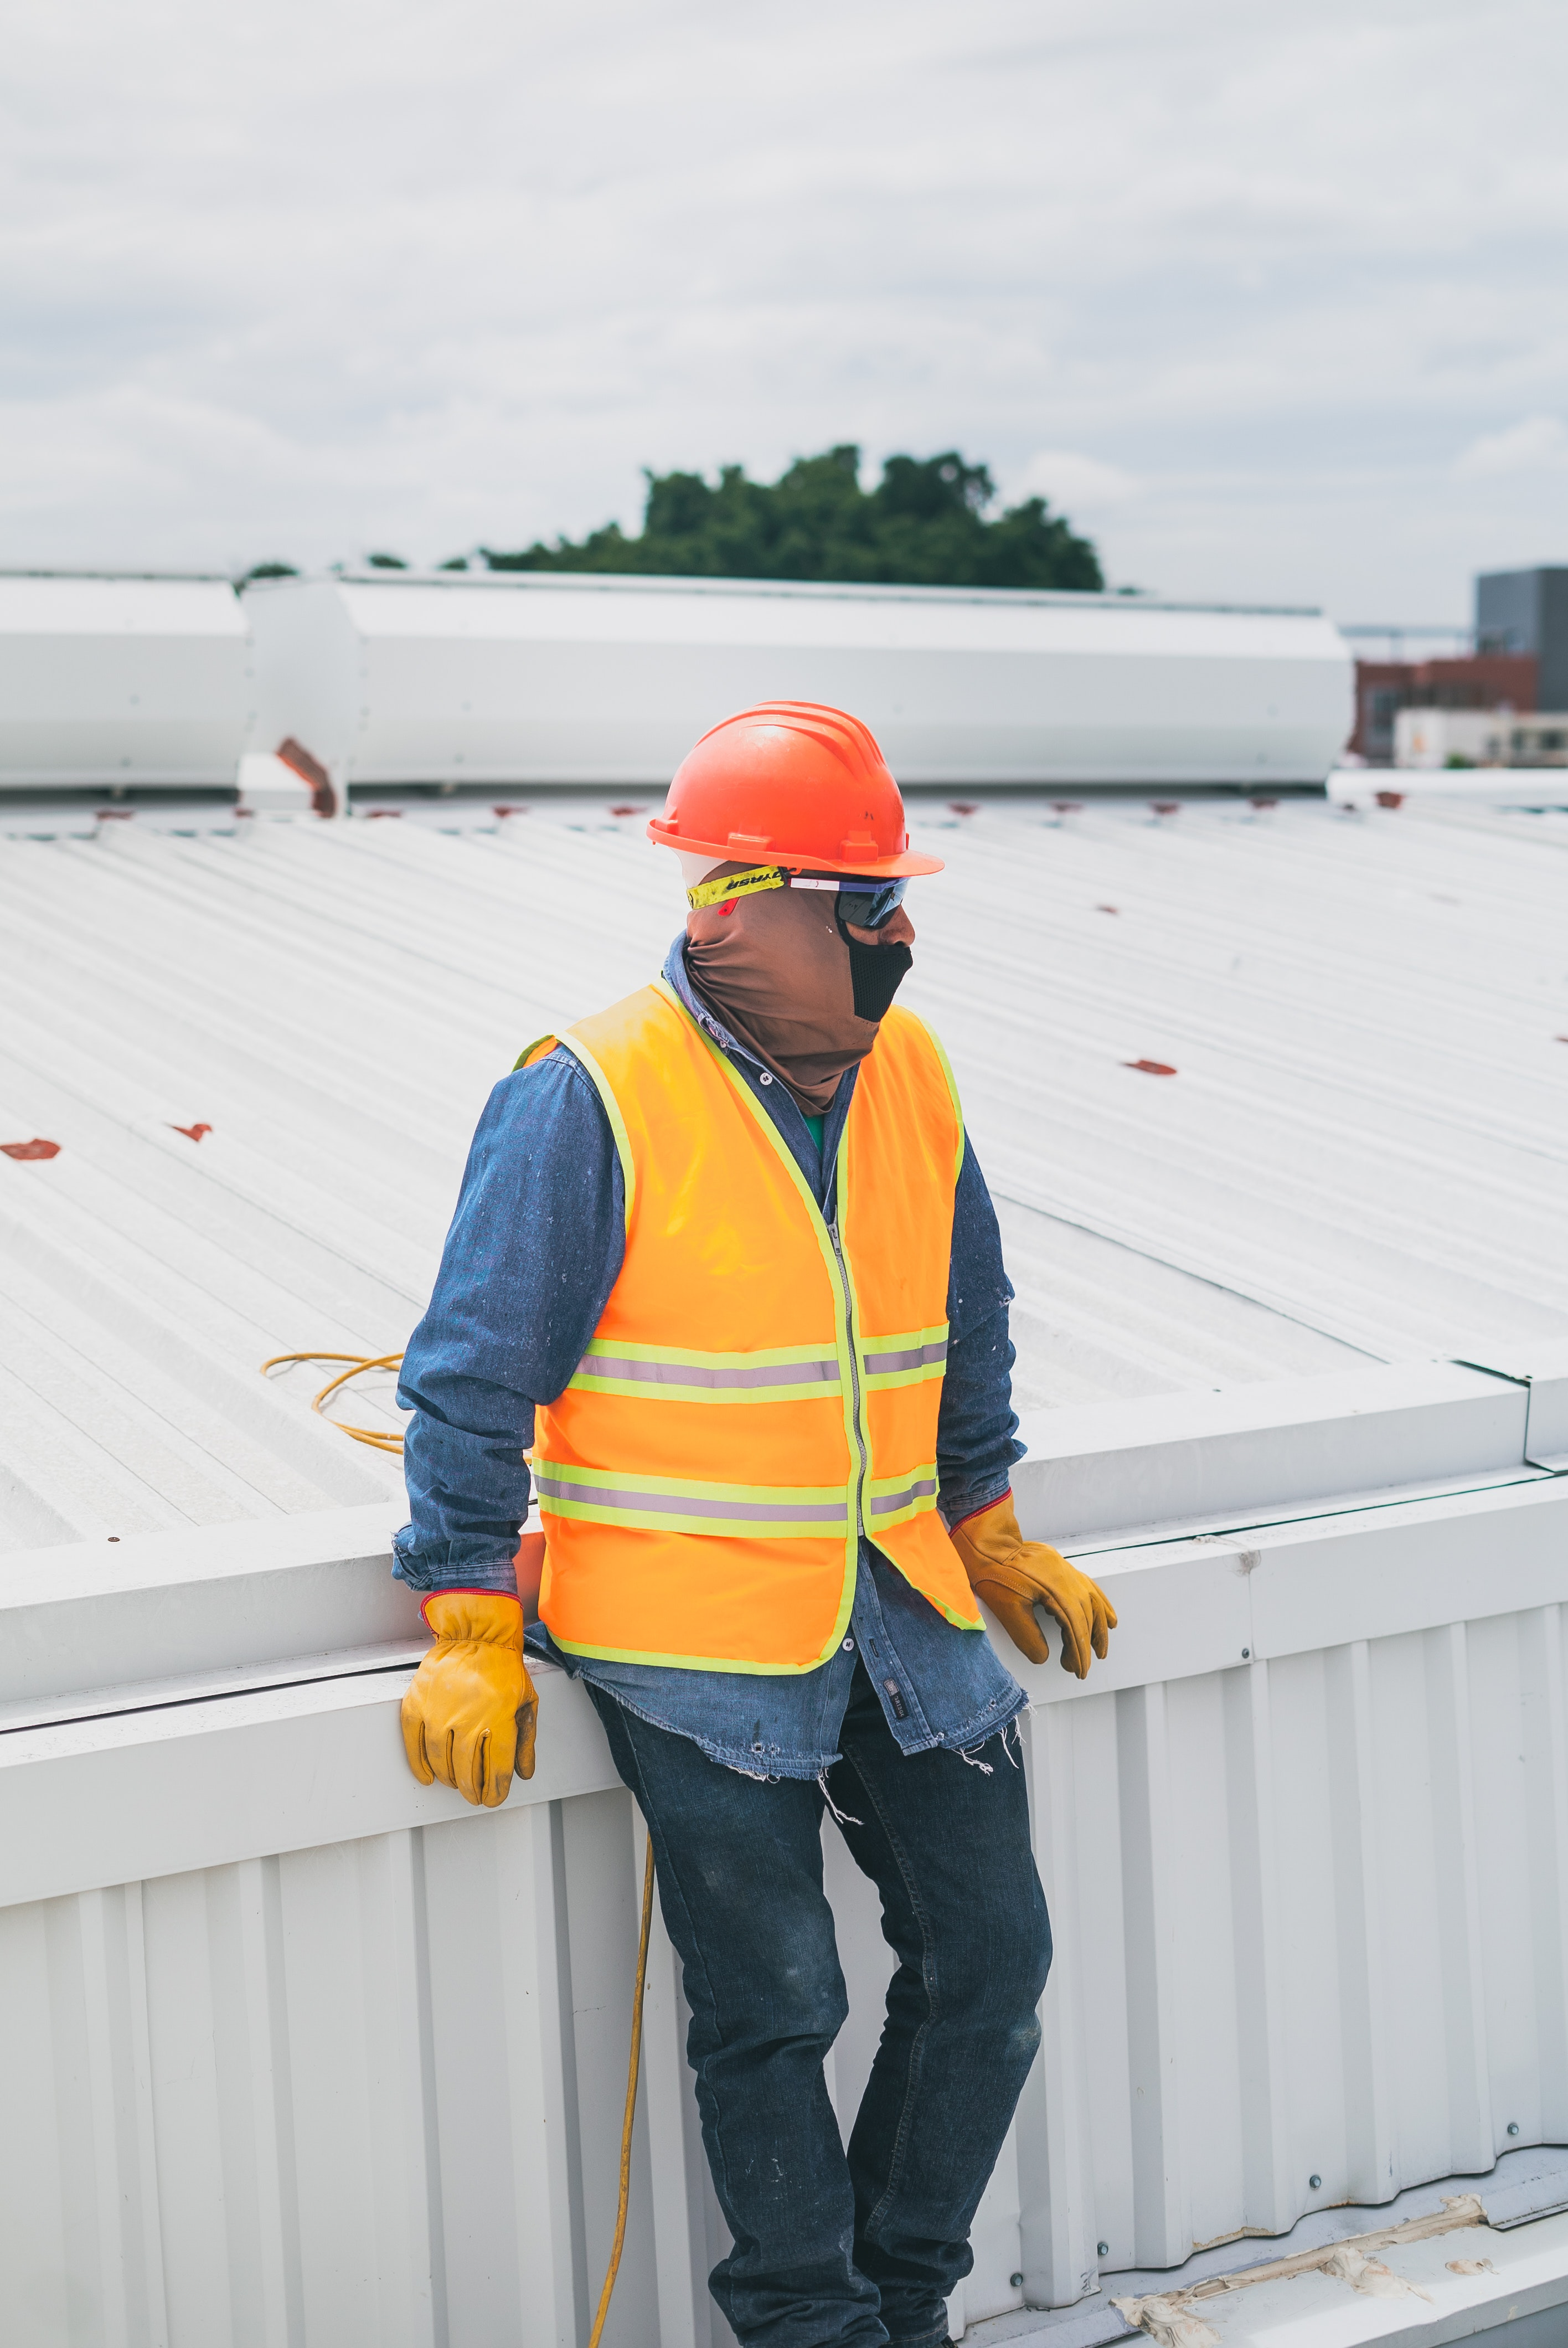Helmet: (633, 688, 966, 1087)
Reflective vest: (516, 973, 1011, 1692)
